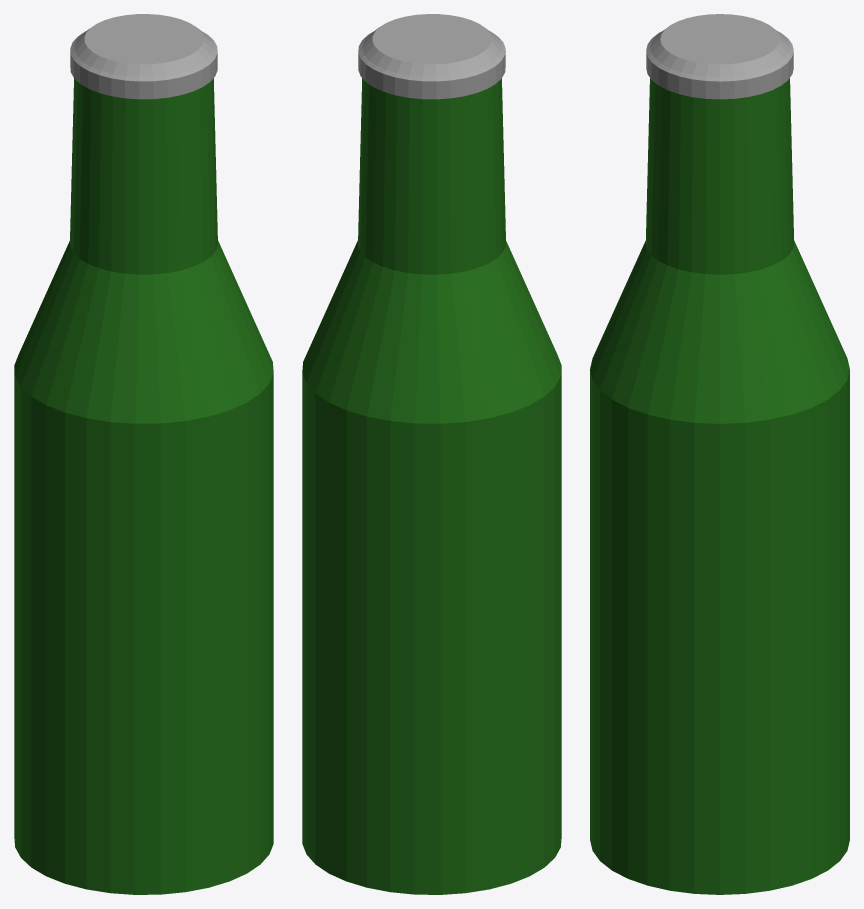
Rendered from CervecaCristal.glb.
3 views of the same model, side by side, from view 1: azimuth 30°, elevation 25°; view 2: azimuth 150°, elevation 25°; view 3: azimuth 270°, elevation 25° (orthographic).
Visible parts, largest first — view 1: Cylinder; view 2: Cylinder; view 3: Cylinder.
Boxes of the visible parts, <box> form: Cylinder: <box>14,14,273,894</box>; Cylinder: <box>302,14,561,894</box>; Cylinder: <box>590,14,849,894</box>.
Bounding box in the file's own units: 0.03 × 0.102 × 0.03.
